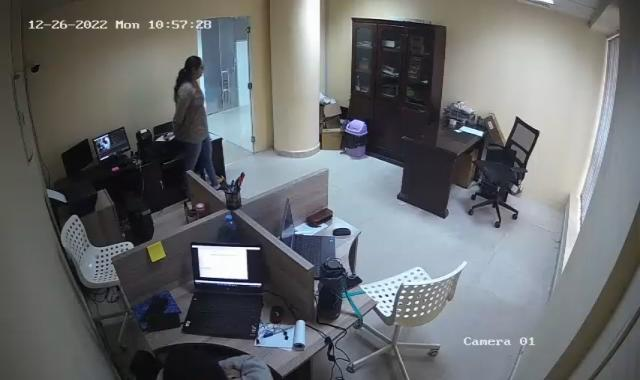no_hairnet: (160, 344, 230, 380), (180, 51, 207, 80)
